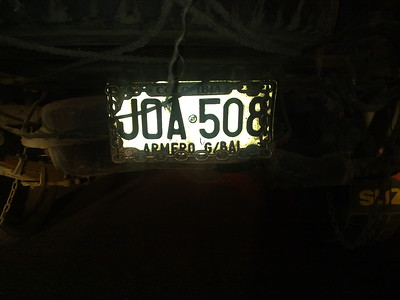placa_carro: (105, 76, 279, 166)
